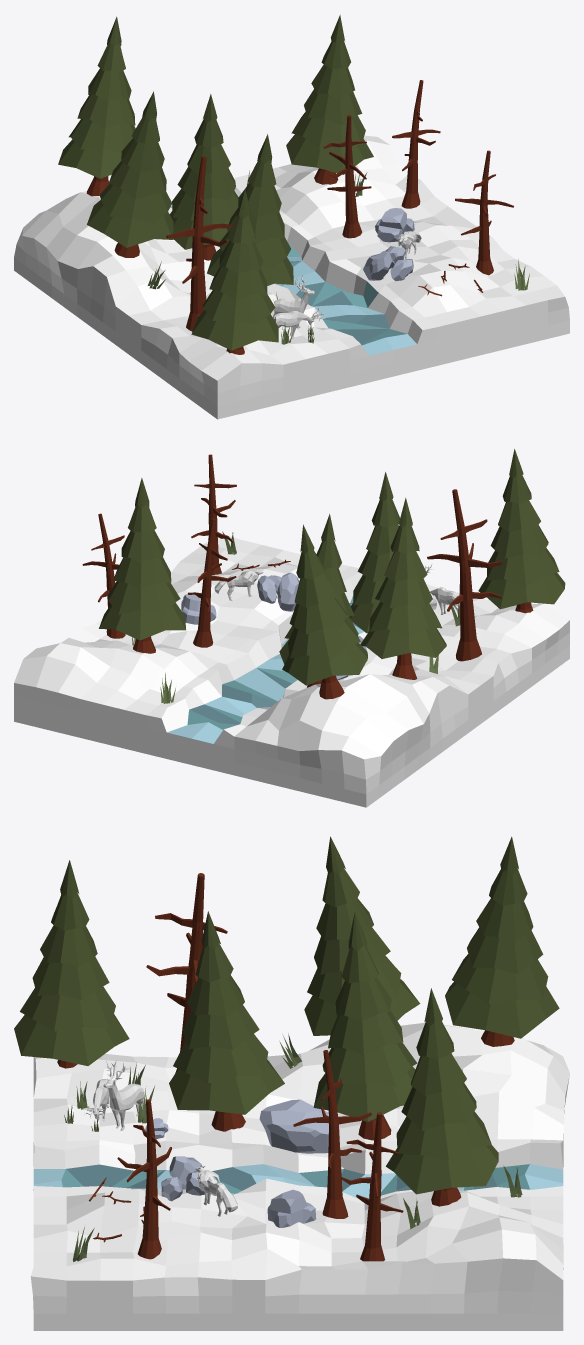
File: Winter forest - escene.fbx
3 views of the same model, one above another, from view 1: azimuth 30°, elevation 25°; view 2: azimuth 150°, elevation 25°; view 3: azimuth 270°, elevation 25° (orthographic). The views are drawn at different scales.
Parts seen in each view (by area): view 1: Terrain, Tree model 1.003, Tree model 1.001, Tree model 1.006, Tree model 1.004, Tree model 1.005, Tree model 1.002, Tree 2- 1, Tree 2- 3, Tree 2- 2, Tree 2- 4, Rock 2 - 2 (+3 smaller); view 2: Terrain, Tree model 1.004, Tree model 1.006, Tree model 1.003, Tree model 1.001, Tree model 1.002, Tree 2- 1, Tree model 1.005, Tree 2- 3, Tree 2- 2, Tree 2- 4, Rock 1 - 2 (+2 smaller); view 3: Terrain, Tree model 1.002, Tree model 1.006, Tree model 1.004, Tree model 1.001, Tree model 1.005, Tree model 1.003, Rock 1 - 1, Tree 2- 3, Tree 2- 2, Tree 2- 4, Tree 2- 1 (+3 smaller).
Part boxes in pixels (x1,y1,x2,y2): Terrain: (14, 135, 569, 419); Tree model 1.003: (87, 91, 173, 257); Tree model 1.001: (191, 189, 278, 354); Tree model 1.006: (286, 14, 373, 184); Tree model 1.004: (58, 16, 135, 196); Tree model 1.005: (169, 94, 238, 260); Tree model 1.002: (207, 134, 293, 285); Tree 2- 1: (166, 156, 232, 331); Tree 2- 3: (323, 114, 371, 238); Tree 2- 2: (455, 150, 513, 275); Tree 2- 4: (392, 80, 440, 208); Rock 2 - 2: (375, 208, 414, 242); Terrain: (14, 534, 569, 807); Tree model 1.004: (282, 524, 367, 699); Tree model 1.006: (99, 478, 185, 653); Tree model 1.003: (360, 497, 446, 679); Tree model 1.001: (478, 449, 565, 613); Tree model 1.002: (349, 472, 399, 633); Tree 2- 1: (427, 489, 502, 661); Tree model 1.005: (279, 513, 367, 687); Tree 2- 3: (188, 518, 236, 647); Tree 2- 2: (191, 454, 236, 574); Tree 2- 4: (82, 513, 125, 638); Rock 1 - 2: (277, 572, 299, 611); Terrain: (30, 1023, 569, 1330); Tree model 1.002: (169, 911, 284, 1131); Tree model 1.006: (386, 988, 498, 1206); Tree model 1.004: (445, 836, 559, 1046); Tree model 1.001: (14, 860, 129, 1068); Tree model 1.005: (313, 912, 417, 1140); Tree model 1.003: (304, 836, 420, 1035); Rock 1 - 1: (259, 1099, 328, 1153); Tree 2- 3: (293, 1050, 371, 1218); Tree 2- 2: (117, 1099, 171, 1259); Tree 2- 4: (341, 1112, 403, 1261); Tree 2- 1: (146, 873, 227, 1072).
Size of the model in its own units: 2111 by 1393 by 2157.
